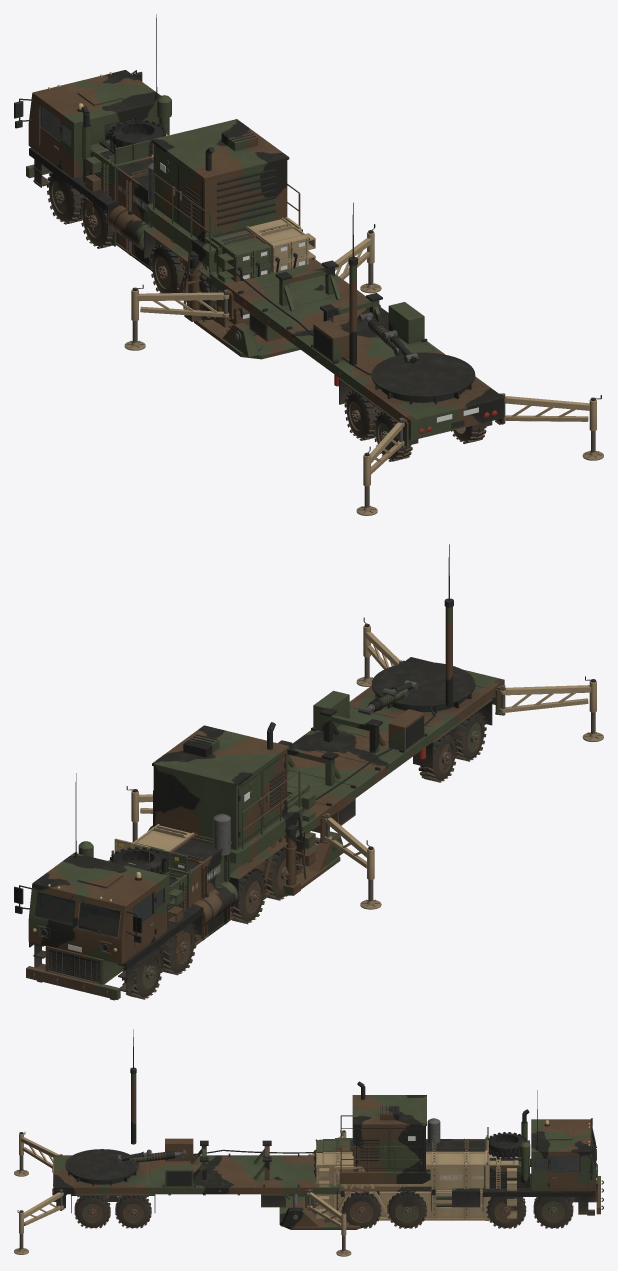
Rendered from pac3.glb.
3 renders of one model, top to bottom at view 1: azimuth 30°, elevation 25°; view 2: azimuth 150°, elevation 25°; view 3: azimuth 270°, elevation 25°, orthographic. The views are drawn at different scales.
Visible parts, largest first — view 1: body|P3_A, body|P3_W, cradle|P3_B, turret|P3_A, body|P3_C, jack0|P3_A, jack3|P3_A, jack2|P3_A, cradle|P3_C, jack1|P3_A, mast0|P3_A, body|glass; view 2: body|P3_A, body|P3_W, cradle|P3_B, body|P3_C, body|glass, jack2|P3_A, turret|P3_A, jack0|P3_A, cradle|P3_C, jack3|P3_A, mast0|P3_A; view 3: body|P3_A, body|P3_W, cradle|P3_B, turret|P3_A, body|P3_C, jack3|P3_A, jack1|P3_A, jack2|P3_A, body|glass, cradle|P3_C, mast0|P3_A.
Part boxes in pixels (x1,y1,x2,y2): body|P3_A: (28,70,505,461); body|P3_W: (26,95,216,321); cradle|P3_B: (85,133,315,331); turret|P3_A: (184,250,300,359); body|P3_C: (14,14,427,386); jack0|P3_A: (124,284,229,350); jack3|P3_A: (501,393,603,460); jack2|P3_A: (356,418,404,515); cradle|P3_C: (103,155,297,317); jack1|P3_A: (335,224,381,293); mast0|P3_A: (348,256,357,364); body|glass: (41,106,134,144); body|P3_A: (28,657,505,964); body|P3_W: (26,829,305,1000); cradle|P3_B: (107,781,315,962); body|P3_C: (14,707,435,954); body|glass: (36,889,163,950); jack2|P3_A: (500,676,603,741); turret|P3_A: (282,824,343,895); jack0|P3_A: (324,813,381,909); cradle|P3_C: (109,791,296,938); jack3|P3_A: (356,617,402,686); mast0|P3_A: (444,598,453,706); body|P3_A: (52,1081,595,1228); body|P3_W: (337,1109,603,1228); cradle|P3_B: (314,1135,520,1222); turret|P3_A: (279,1194,365,1229); body|P3_C: (152,1090,596,1207); jack3|P3_A: (14,1189,63,1254); jack1|P3_A: (307,1189,351,1256); jack2|P3_A: (14,1132,62,1176); body|glass: (535,1131,594,1171); cradle|P3_C: (313,1138,500,1219); mast0|P3_A: (130,1067,136,1144).
Size of the model in its own units: 6.62 by 5.97 by 18.76.
Materials: 36 (35 with a texture image).
